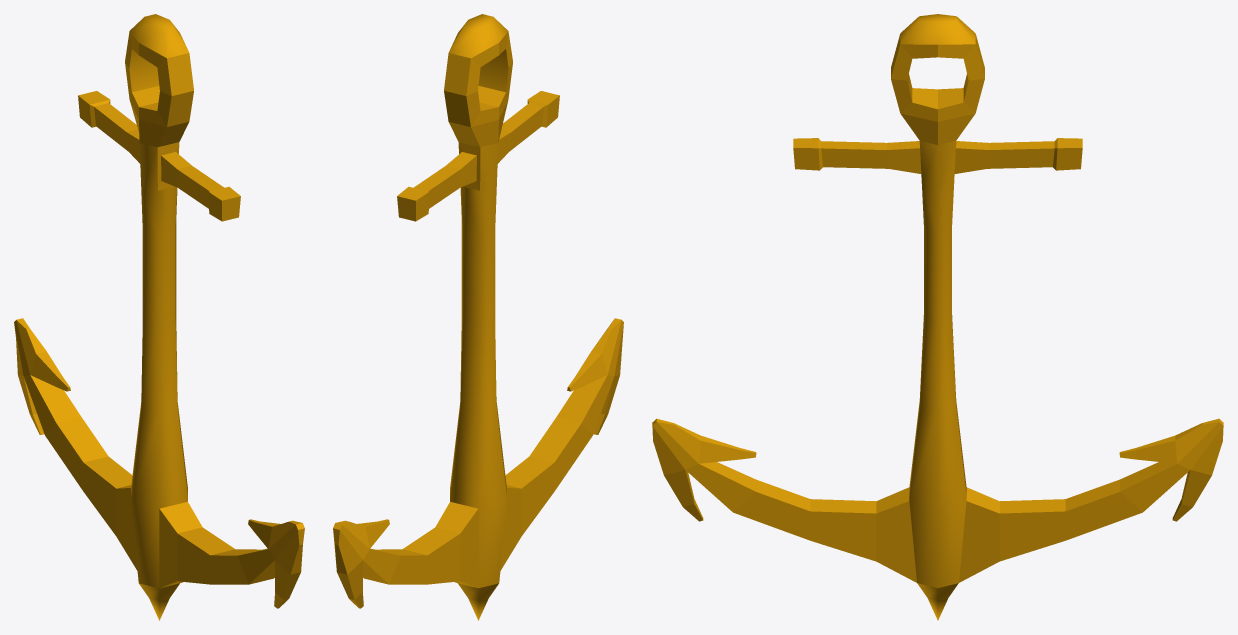
File: Vault Anchor.FBX
3 renders of one model, left to right at view 1: azimuth 30°, elevation 25°; view 2: azimuth 150°, elevation 25°; view 3: azimuth 270°, elevation 25°, orthographic.
Parts seen in each view (by area): view 1: Cylinder006; view 2: Cylinder006; view 3: Cylinder006.
Part boxes in pixels (box(x1,y1,x2,y2)): Cylinder006: box(14, 14, 304, 620); Cylinder006: box(333, 14, 623, 620); Cylinder006: box(652, 14, 1223, 620).
Bounding box in the file's own units: 0.3568 × 3.59 × 3.09.
